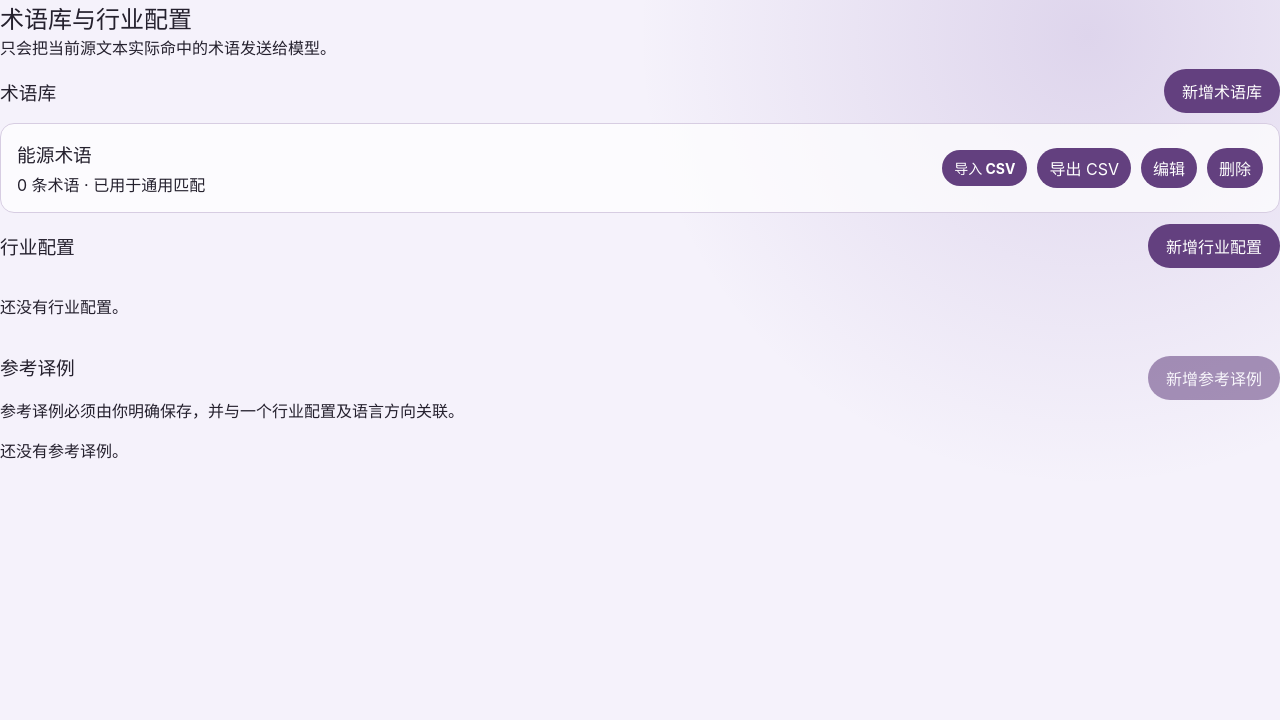
Test: TerminologySettingsSection › asks for confirmation before deleting reusable terminology
Click the button with aria-label "删除术语库 能源术语".
click(1235, 168)  # box [1207,148,1263,188]
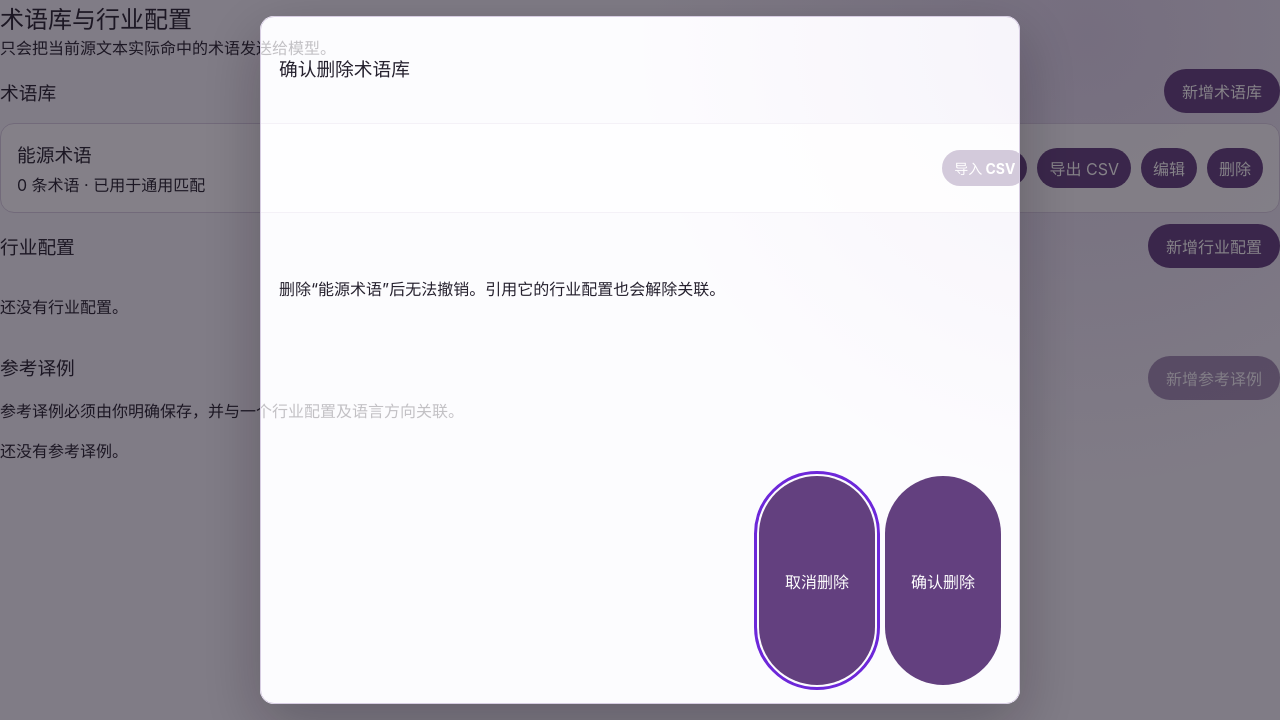
Expected: the dialog "确认删除术语库" is shown, [260,16,1020,704]
Click the button "确认删除".
click(943, 581)  # box [885,476,1001,685]
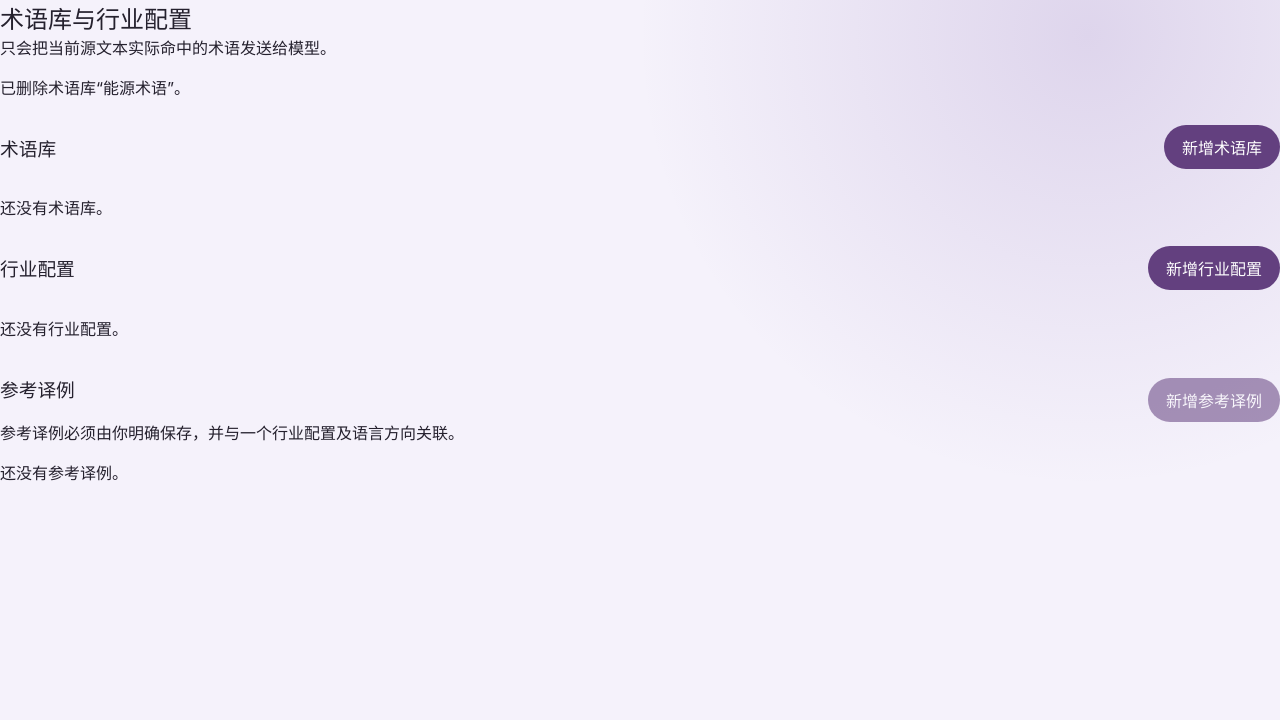
Expected: the dialog is gone
